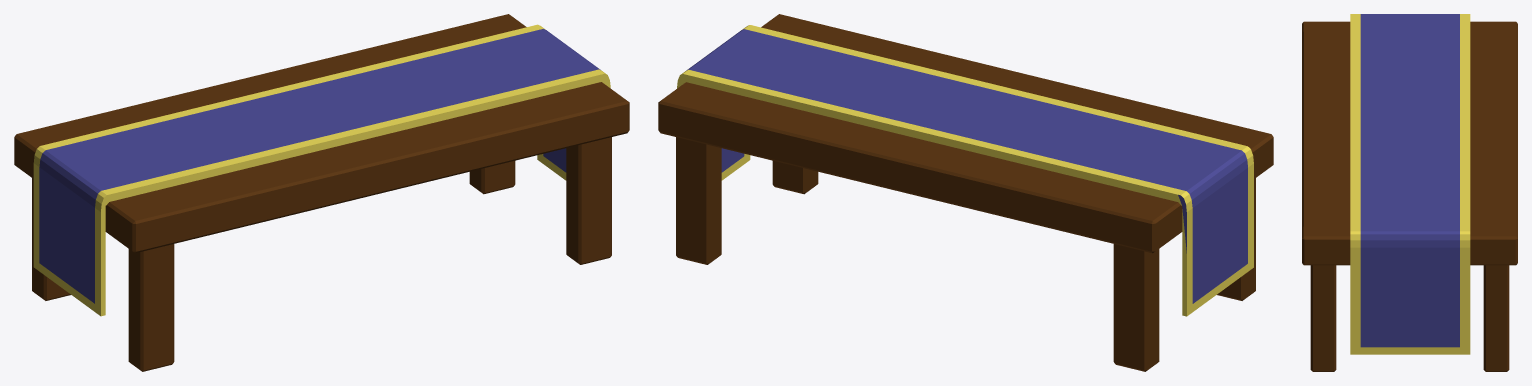
The model's file is Table3.fbx.
3 views of the same model, side by side, from view 1: azimuth 30°, elevation 25°; view 2: azimuth 150°, elevation 25°; view 3: azimuth 270°, elevation 25° (orthographic). The views are drawn at different scales.
Visible parts, largest first — view 1: Cube.013; view 2: Cube.013; view 3: Cube.013.
Boxes of the visible parts, <box> form: Cube.013: <box>14,14,629,371</box>; Cube.013: <box>658,14,1273,371</box>; Cube.013: <box>1302,14,1517,371</box>.
Size of the model in its own units: 575 by 178 by 236.
